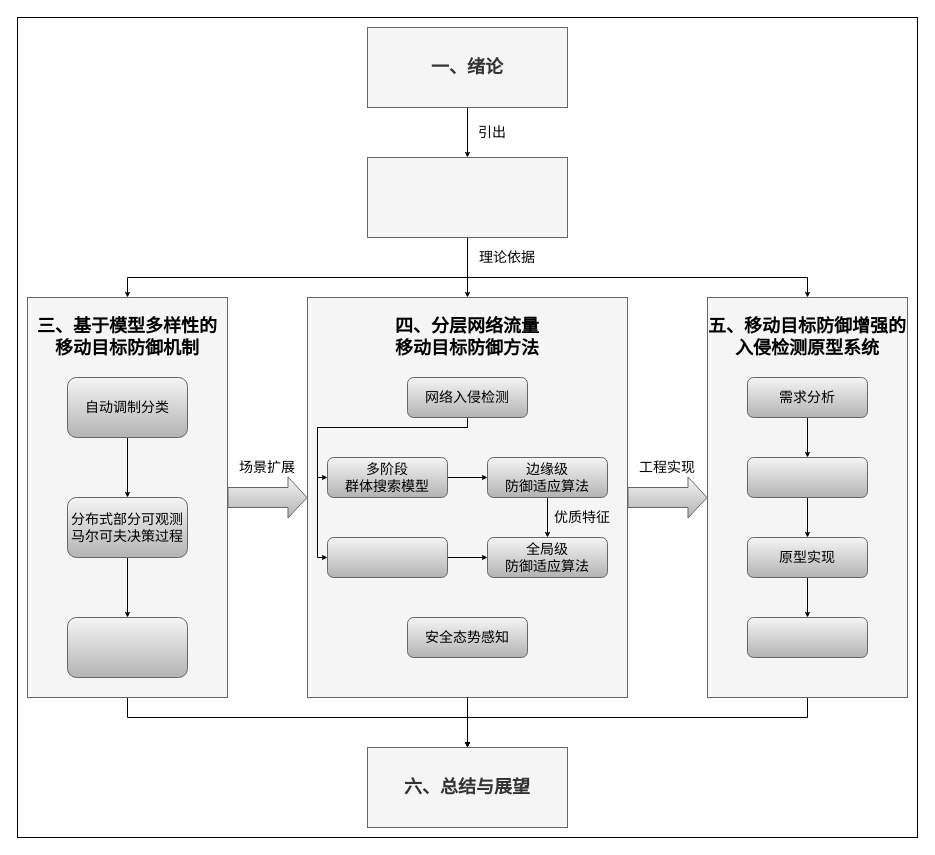
Some shapes in this 935 by 855 pixel diagram are drawn without their labels. The shapes that lost their labels are listed below. From the top down, each one's box as (x1, y1, x2, y2) in pixels, then its label:
(366, 156, 568, 238): 二、相关技术概述
(746, 456, 868, 498): 架构设计
(326, 536, 448, 578): 马尔可夫决策过程
(66, 616, 188, 678): 多模型 差分采样算法
(746, 616, 868, 658): 性能测试
